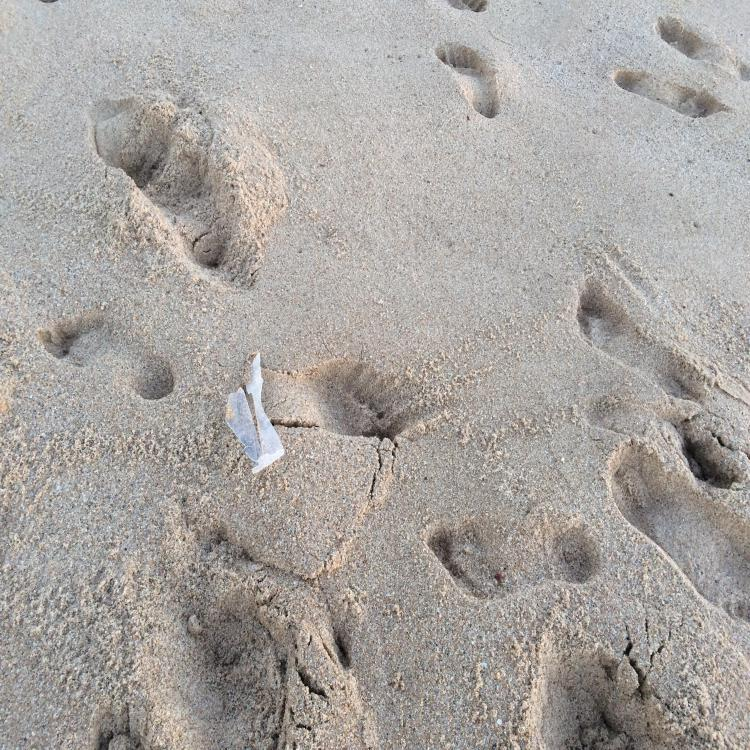Other plastic wrapper: (225, 353, 285, 473)
